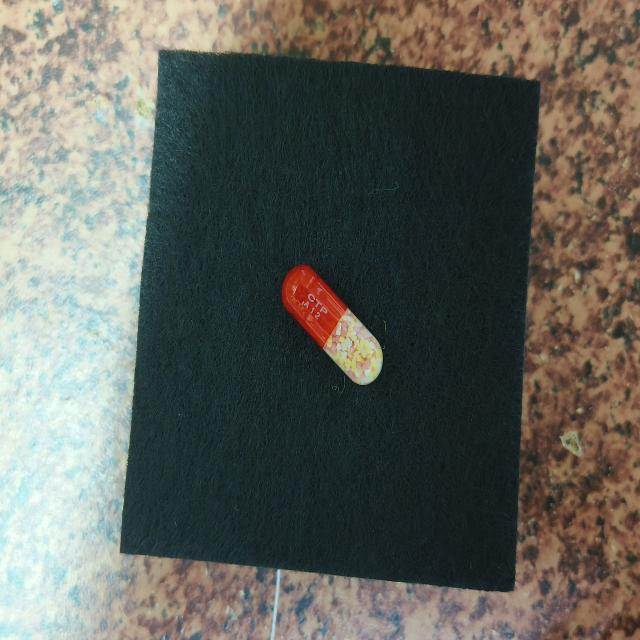Intact Capsule: (282, 264, 383, 384)
